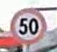limite 50: (9, 7, 45, 43)
